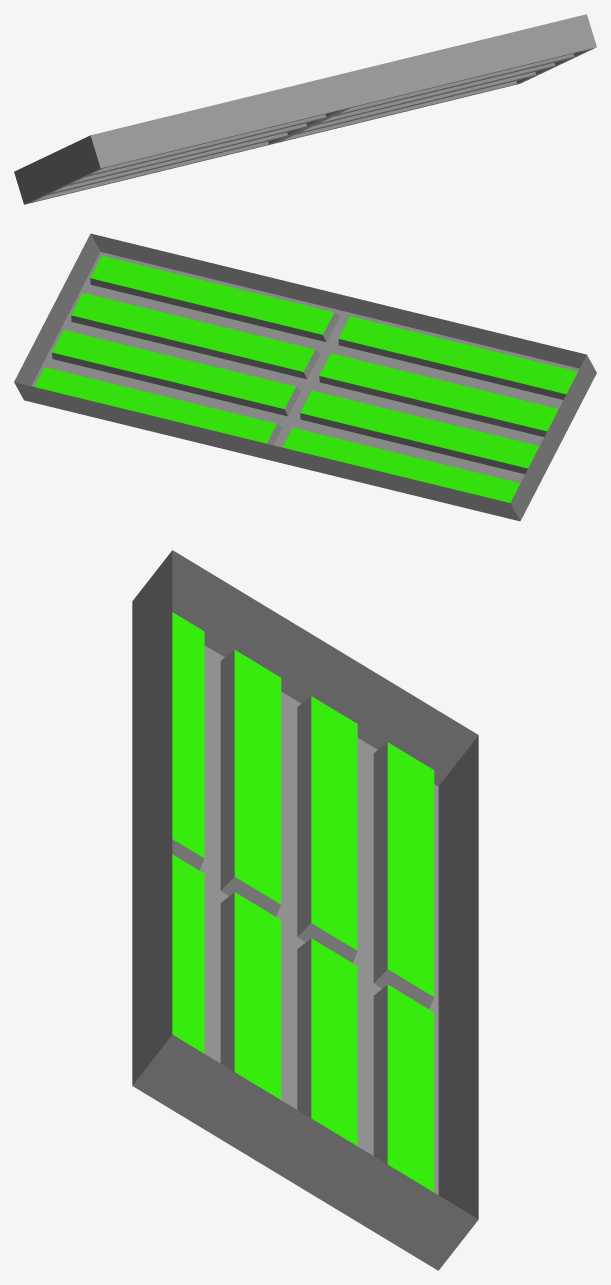
File: Light_Fixture_B.FBX
The picture shows the model from 3 angles, top to bottom: view 1: azimuth 30°, elevation 25°; view 2: azimuth 150°, elevation 25°; view 3: azimuth 270°, elevation 25°; orthographic projection. The views are drawn at different scales.
Parts seen in each view (by area): view 1: Light_Fixture_B; view 2: Light_Fixture_B; view 3: Light_Fixture_B.
Boxes of the visible parts, bbox=[...] form: Light_Fixture_B: bbox=[14, 14, 596, 204]; Light_Fixture_B: bbox=[14, 233, 596, 521]; Light_Fixture_B: bbox=[132, 550, 478, 1270].
Bounding box in the file's own units: 188 × 42.87 × 56.93.
